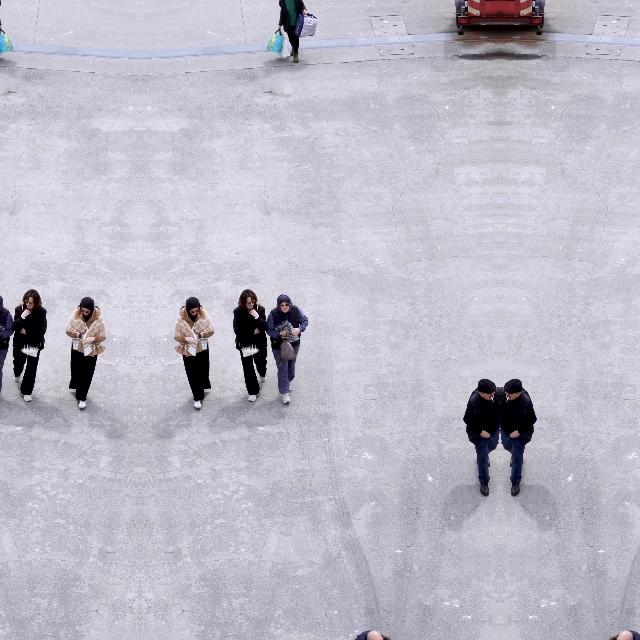person: (266, 294, 310, 404), (173, 296, 214, 410), (66, 296, 106, 410), (464, 378, 501, 498), (499, 378, 536, 498), (232, 289, 270, 403), (10, 289, 48, 403), (278, 1, 308, 64), (0, 293, 14, 404), (354, 630, 392, 640), (608, 630, 640, 640), (0, 0, 2, 63)
